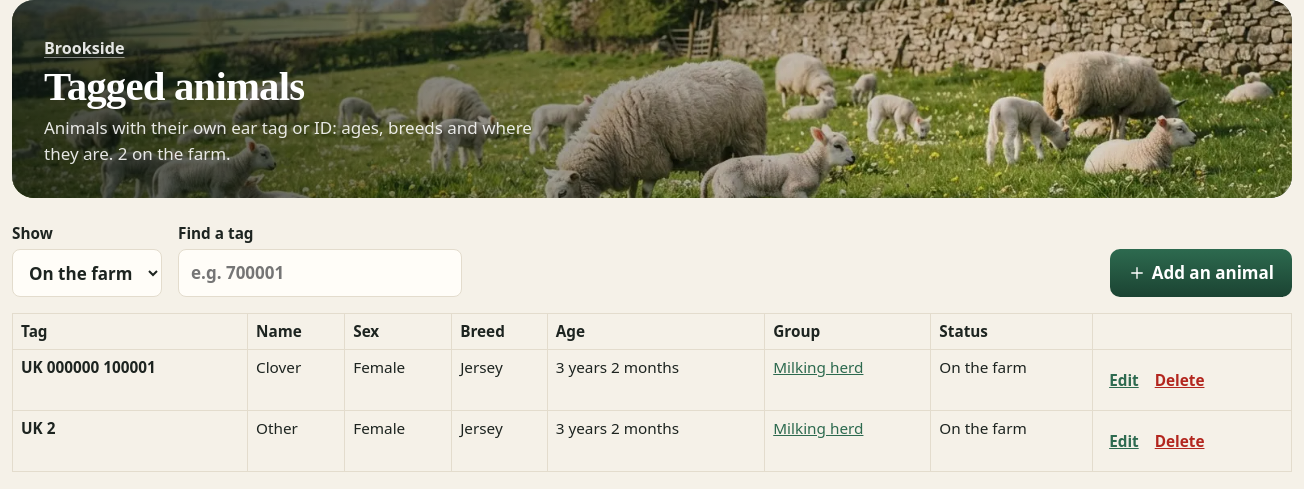
Test: TaggedAnimalsPage (v4) › finds an animal by tag, ignoring spaces and case
The image size is (1304, 489).
Expected: the table named "animals" is shown, 12,313 -> 1292,472
Type "uk000000" into the search field labelled "Find a tag".
click(320, 273); type("uk000000")  # box 178,249 -> 462,297
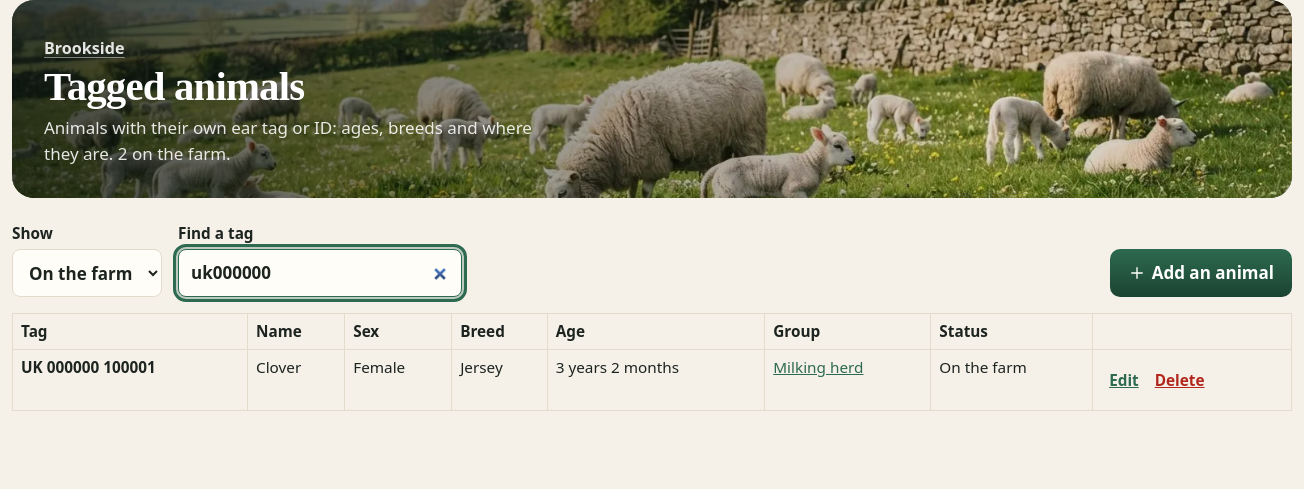
Expected: the text "Clover" is shown, 256,357 -> 301,377
Result: the text "Other" is gone
